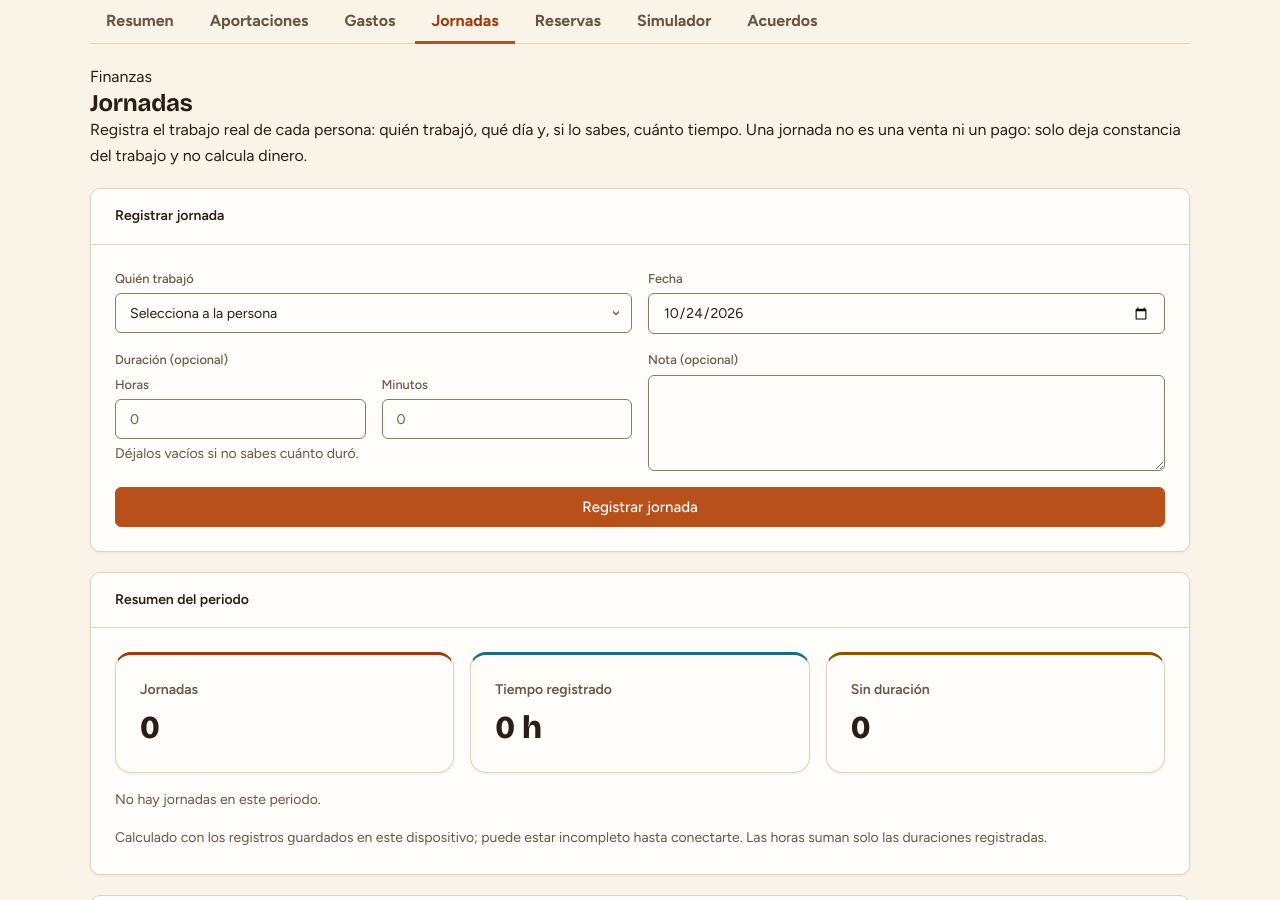
Scenario: work shifts screen: create › does not save no worker and says what is wrong
Select "Ana" in the dropdown with id "work-shift-member": (374, 313) [115,293,632,333]
In the date field with id "work-shift-date": (906, 314) [648,293,1165,334], type "2026-10-01"
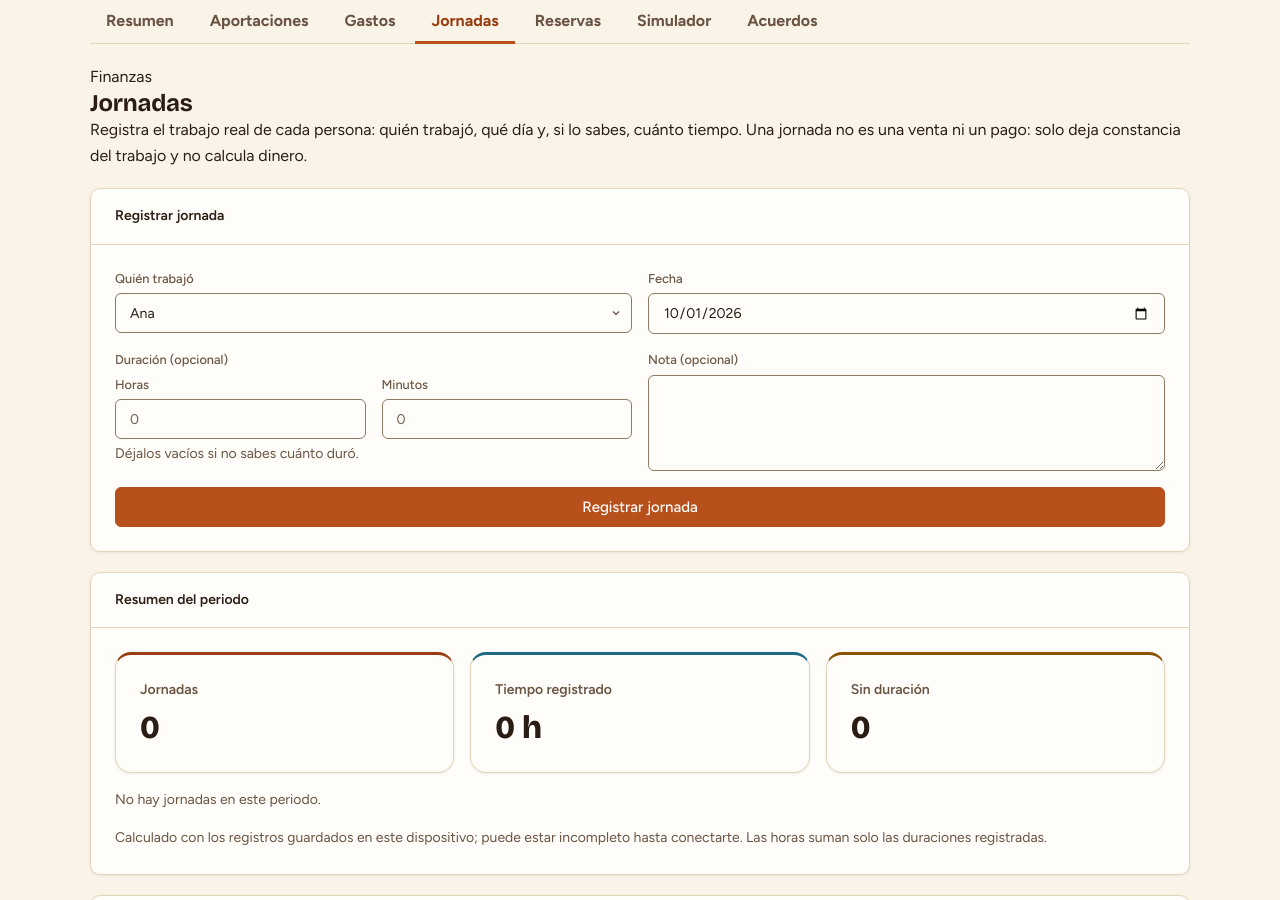
In the field with id "work-shift-duration-hours": (240, 419) [115,399,366,439], type "8"
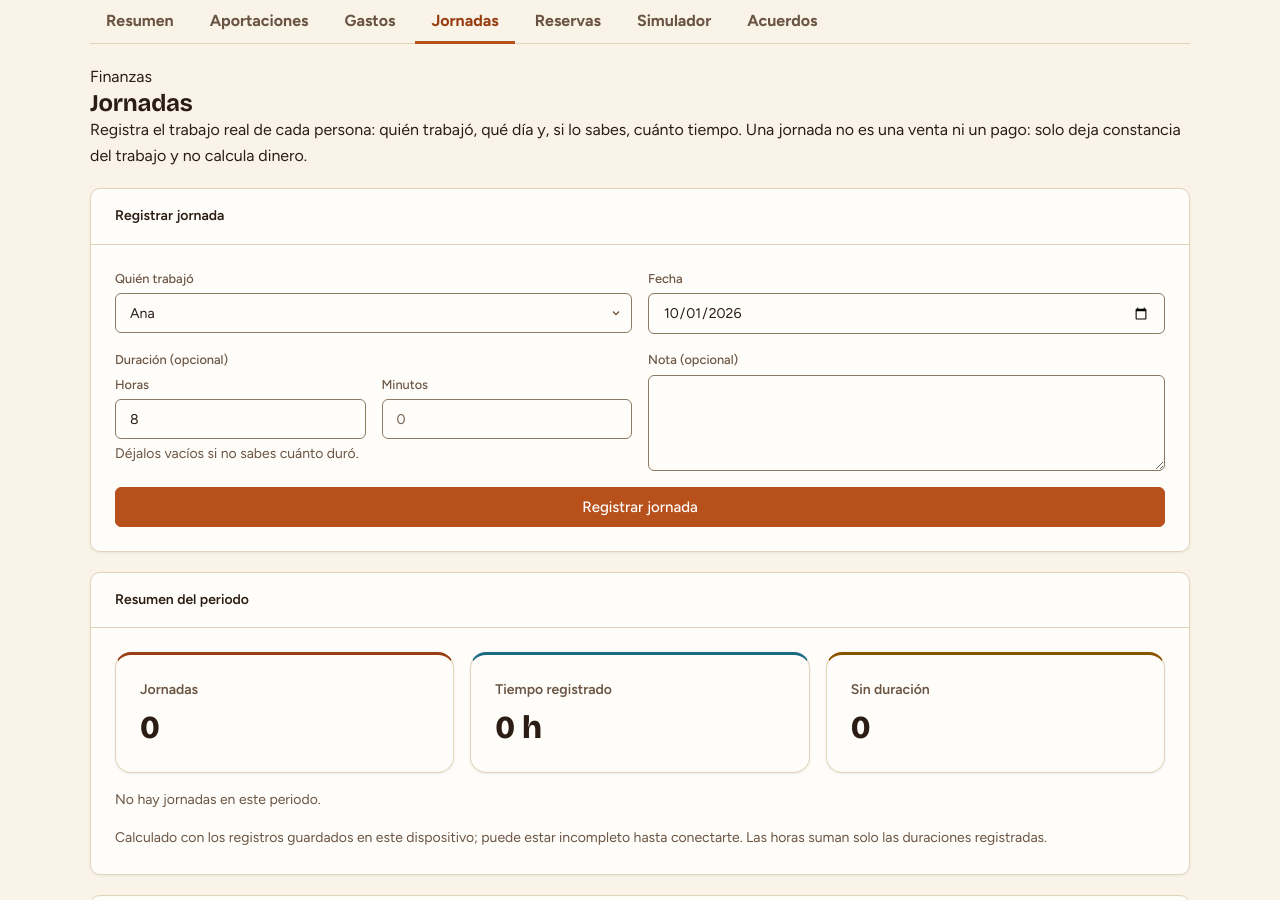
In the field with id "work-shift-duration-minutes": (507, 419) [382,399,632,439], type "30"
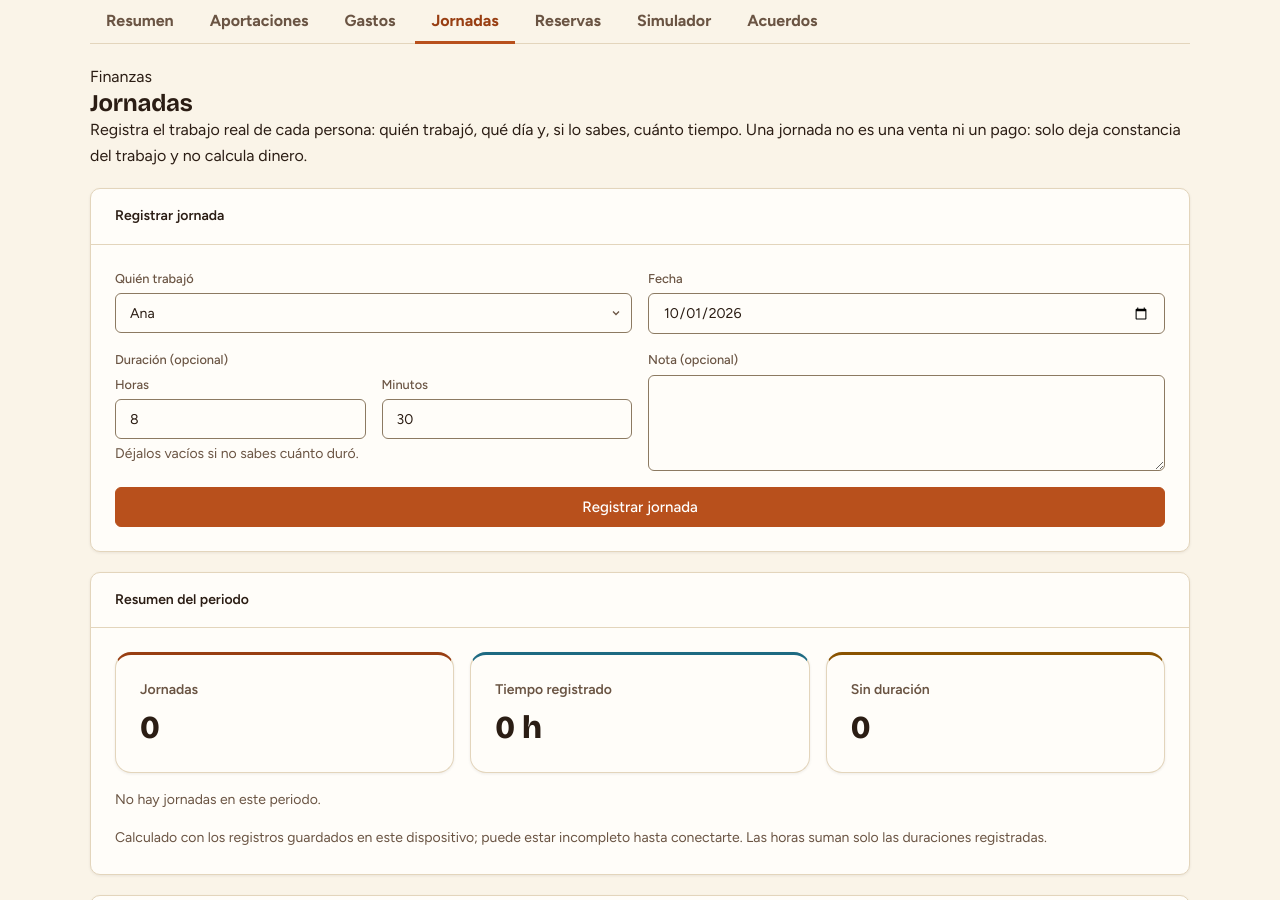
In the text box with id "work-shift-note": (906, 423) [648,375,1165,471], type "  Turno completo  "
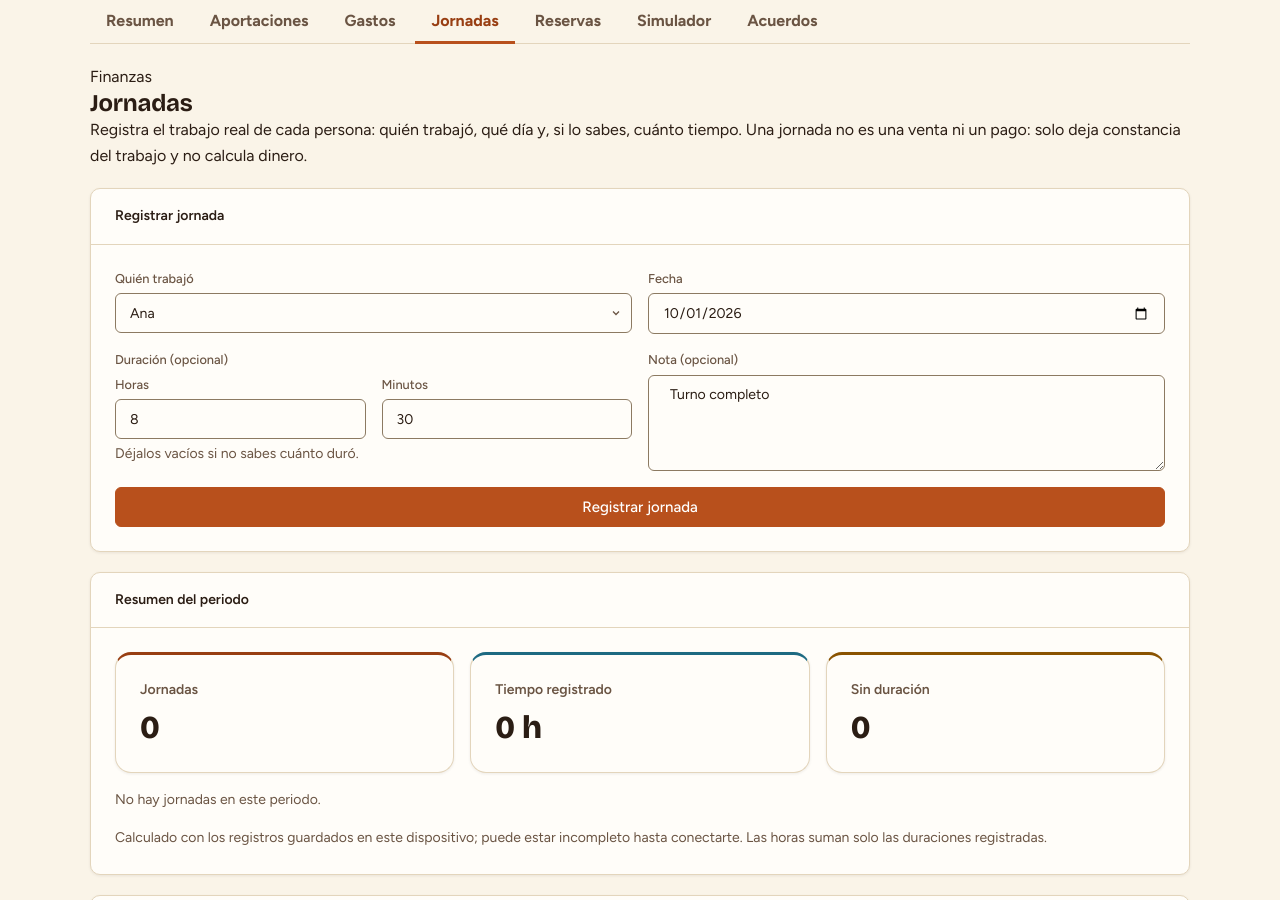
Select "Selecciona a la persona" in the dropdown with id "work-shift-member": (374, 313) [115,293,632,333]
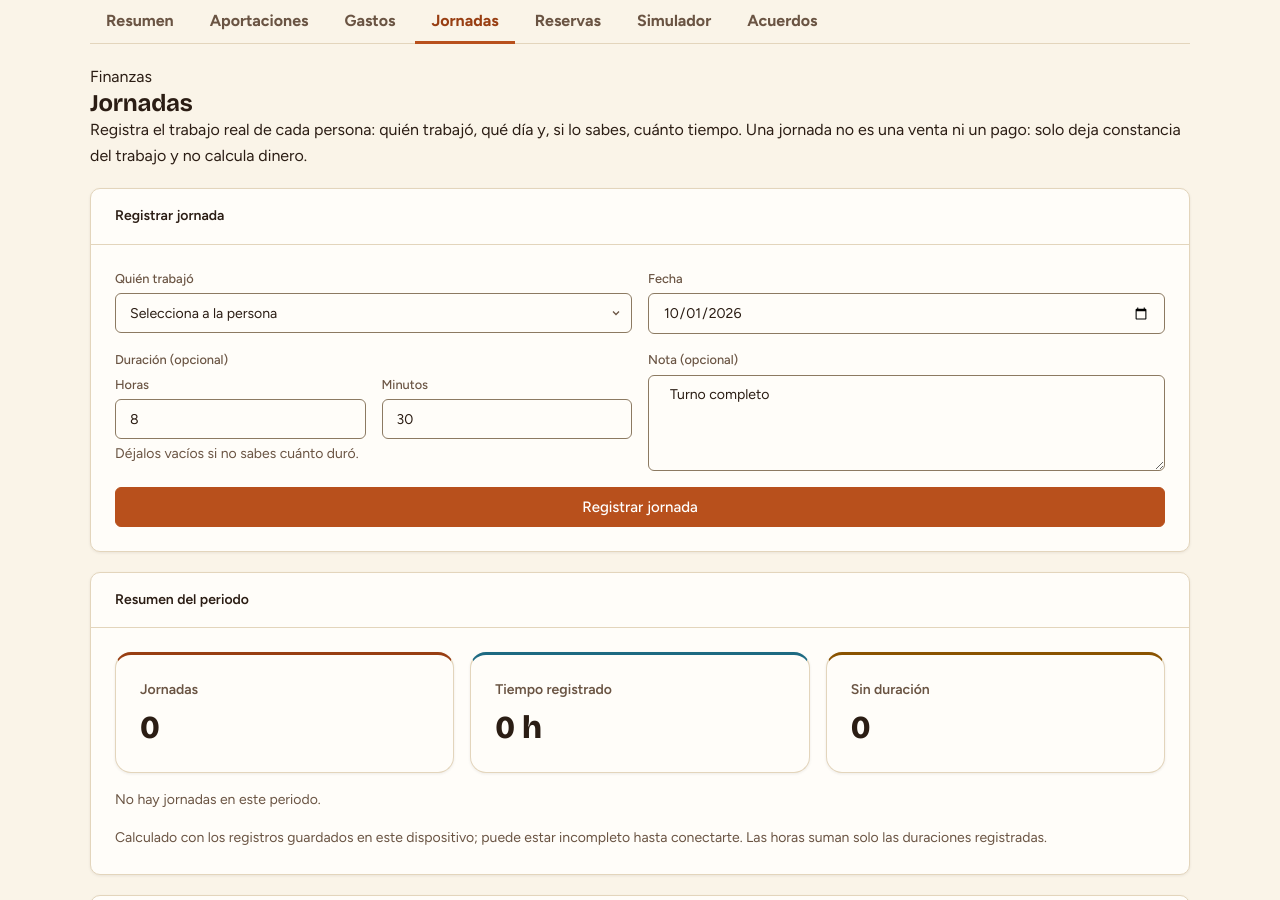
Submit the form with test id "create-form", box [115,269,1165,527]
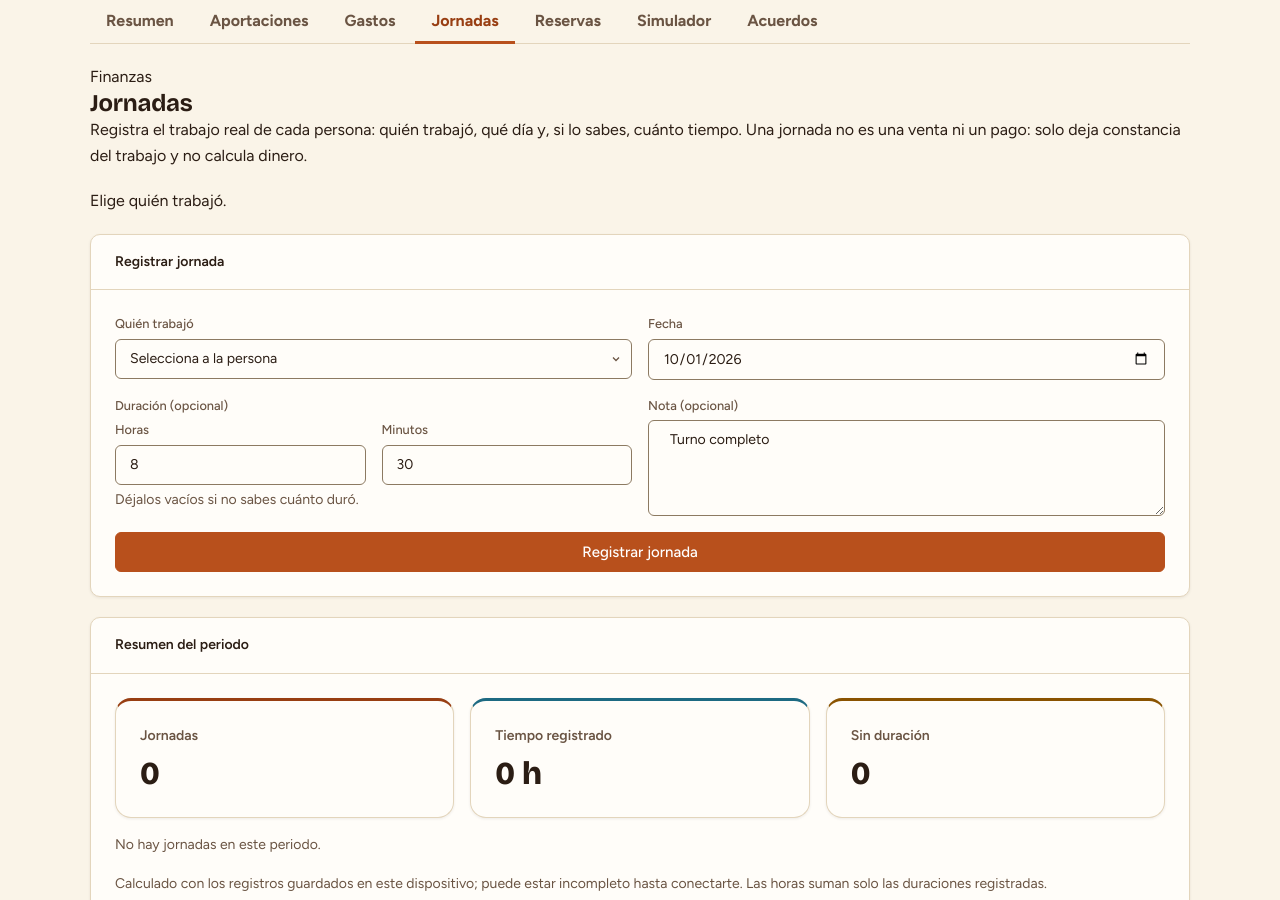
Now the message "Elige quién trabajó." is shown, box [90,191,226,210]
